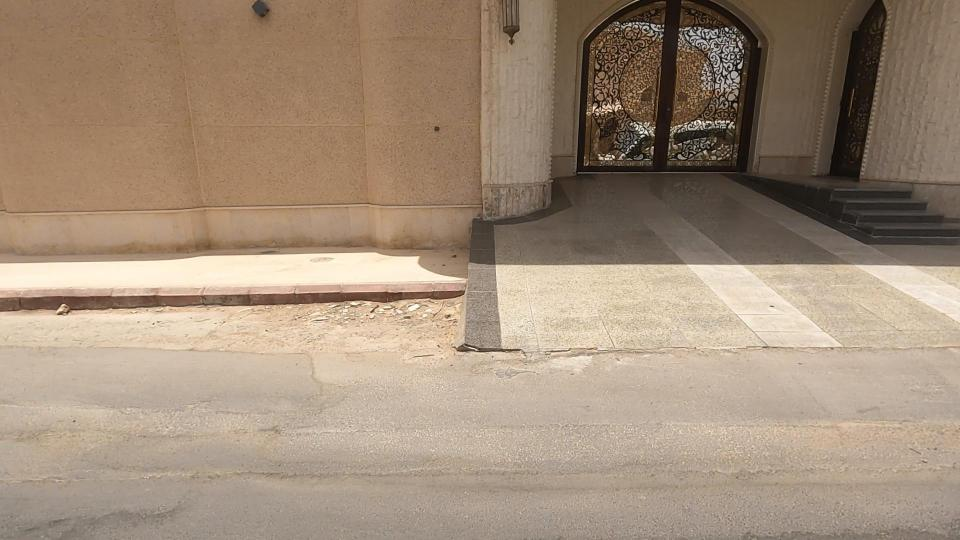GARBAGE: (335, 275, 449, 348), (25, 274, 98, 352)
